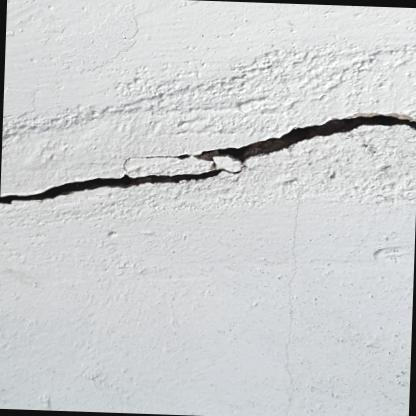crack: (0, 114, 416, 204)
